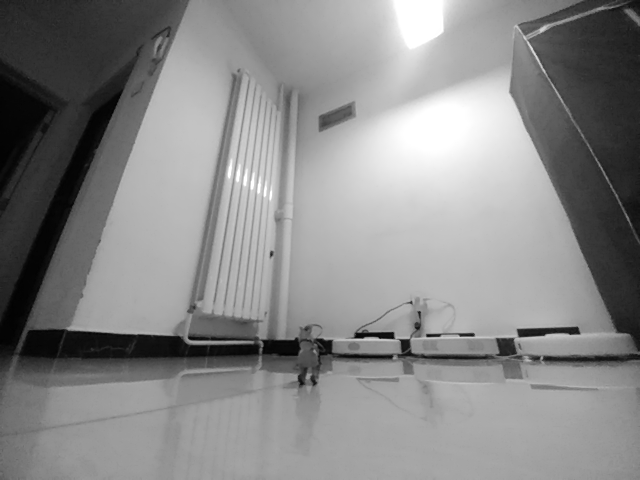toy: (294, 322, 327, 388)
